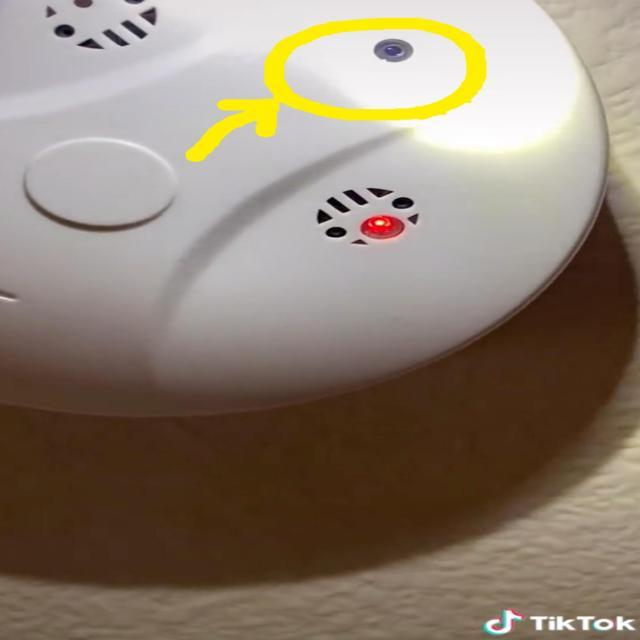hidden camera: (354, 26, 429, 68)
